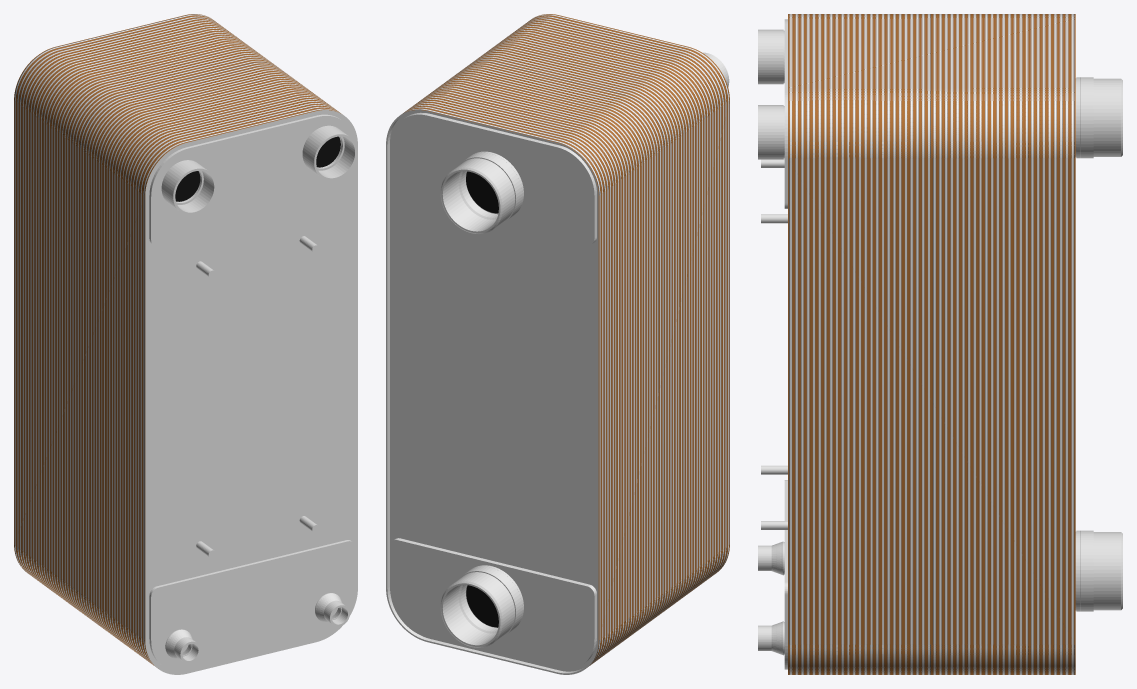
Rendered from MPHE_T24013_123_C212L_150_v02.glb.
3 renders of one model, left to right at view 1: azimuth 30°, elevation 25°; view 2: azimuth 150°, elevation 25°; view 3: azimuth 270°, elevation 25°, orthographic. The views are drawn at different scales.
Visible parts, largest first — view 1: MPHE_T24013_123_C212L_150, Cylinder, Cylinder.001; view 2: MPHE_T24013_123_C212L_150, Cylinder.005, Cylinder.004; view 3: MPHE_T24013_123_C212L_150.
Part boxes in pixels (x1,y1,x2,y2): MPHE_T24013_123_C212L_150: (14,14,357,674); Cylinder: (175,171,200,201); Cylinder.001: (316,136,340,167); MPHE_T24013_123_C212L_150: (386,14,729,674); Cylinder.005: (466,585,498,627); Cylinder.004: (466,171,498,213); MPHE_T24013_123_C212L_150: (758,14,1122,674).
Bounding box in the file's own units: 0.0981 × 0.2341 × 0.1329.
Materials: 3 (1 with a texture image).
